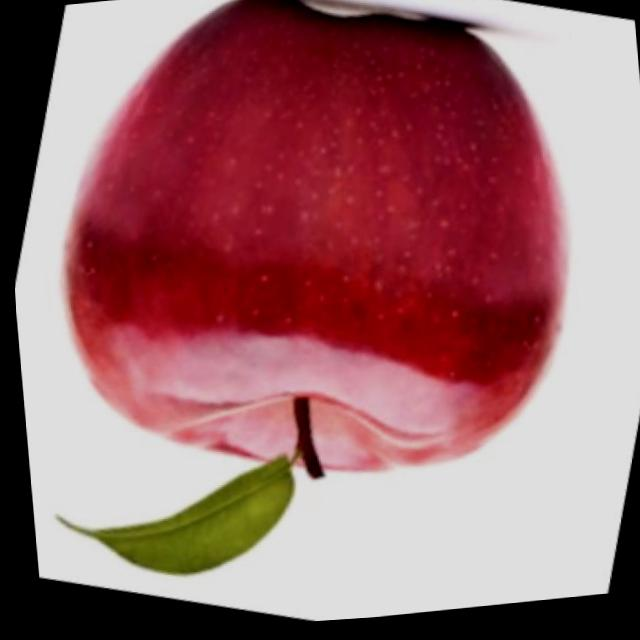Apple: (36, 0, 583, 508)
